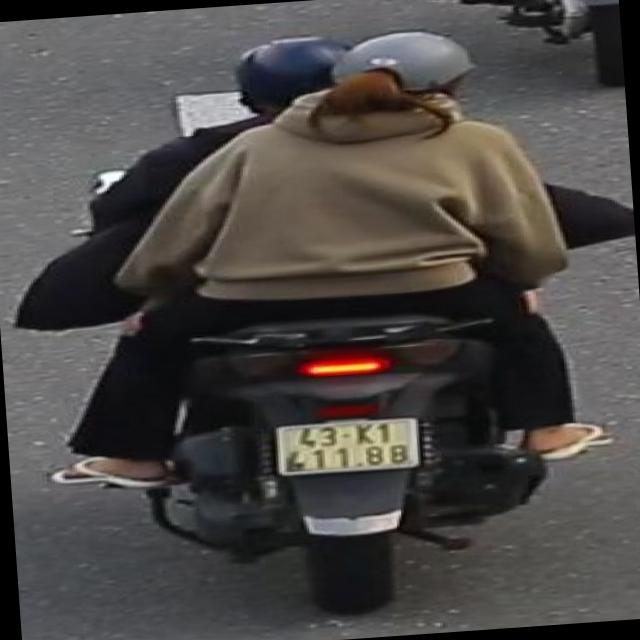LP: (272, 412, 432, 478)
helmet: (330, 23, 494, 133), (228, 29, 370, 131)
